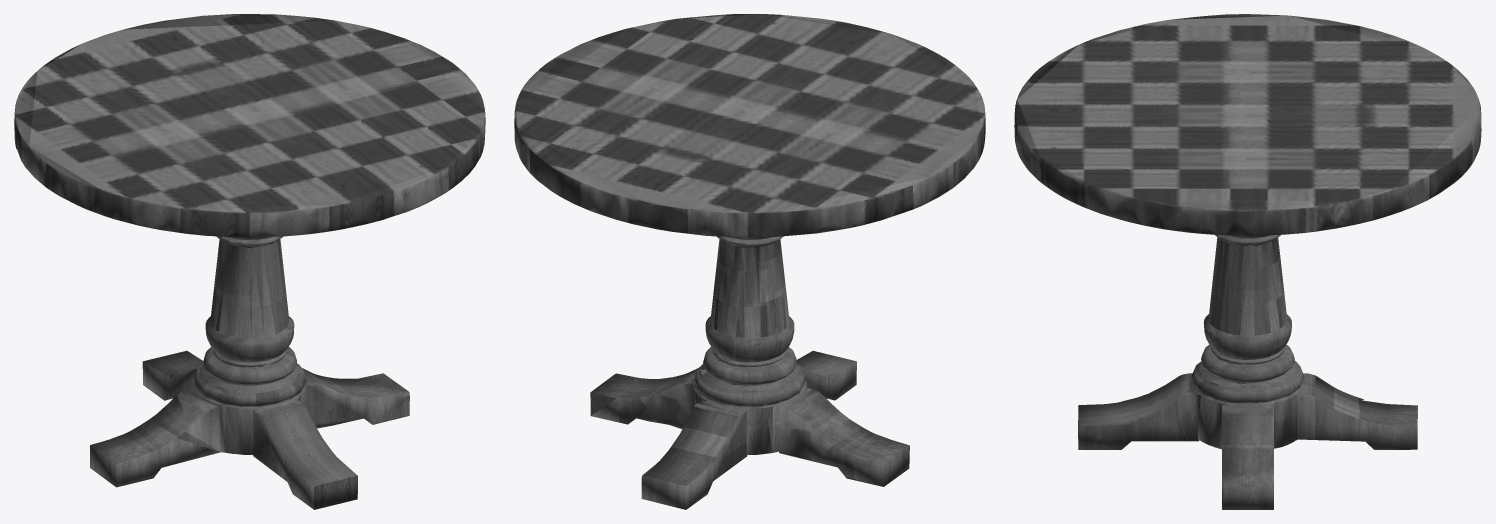
Rendered from TableBlockhaus.fbx.
The picture shows the model from 3 angles, left to right: view 1: azimuth 30°, elevation 25°; view 2: azimuth 150°, elevation 25°; view 3: azimuth 270°, elevation 25°; orthographic projection.
Parts seen in each view (by area): view 1: Mesh_0; view 2: Mesh_0; view 3: Mesh_0.
Part boxes in pixels (x1=…): Mesh_0: x1=14, y1=14, x2=485, y2=509; Mesh_0: x1=514, y1=14, x2=985, y2=509; Mesh_0: x1=1014, y1=14, x2=1481, y2=509.
Size of the model in its own units: 190 by 147 by 190.
Materials: 1 (1 with a texture image).
